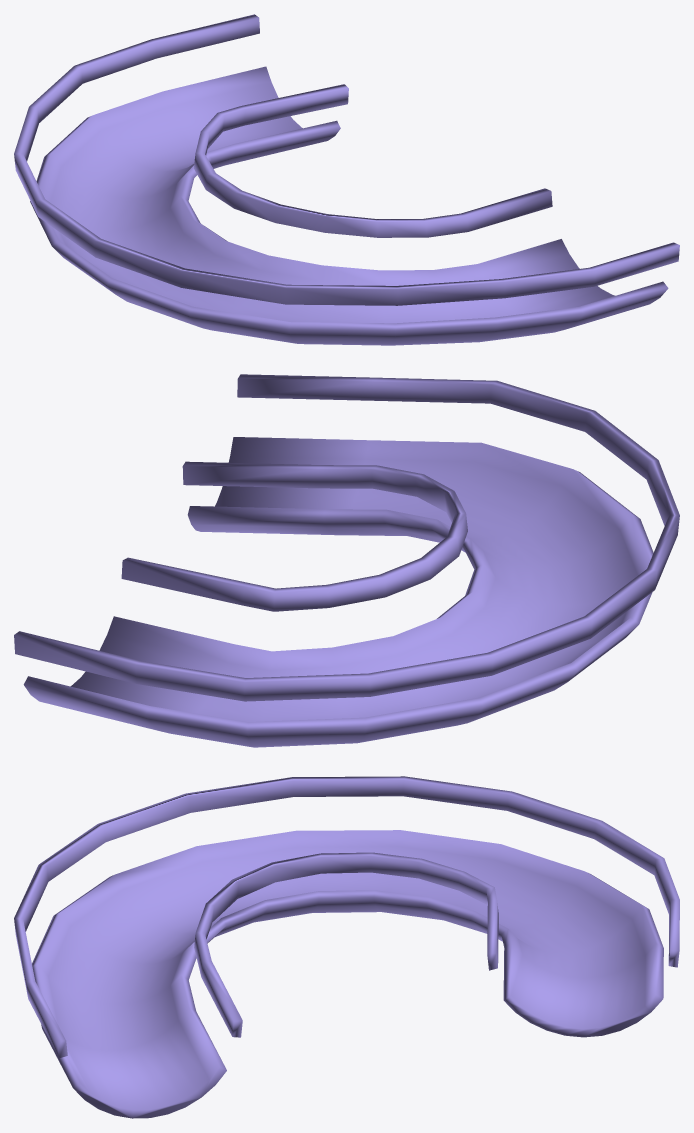
Rendered from scen_III_spir_sciezka-zewnetrzna.fbx.
3 views of the same model, one above another, from view 1: azimuth 30°, elevation 25°; view 2: azimuth 150°, elevation 25°; view 3: azimuth 270°, elevation 25° (orthographic). The views are drawn at different scales.
Parts seen in each view (by area): view 1: spir 01.033; view 2: spir 01.033; view 3: spir 01.033.
Part boxes in pixels (box(x1,y1,x2,y2)): spir 01.033: box(14, 14, 679, 345); spir 01.033: box(14, 374, 679, 747); spir 01.033: box(14, 776, 679, 1118).
Bounding box in the file's own units: 456 × 111 × 555.
